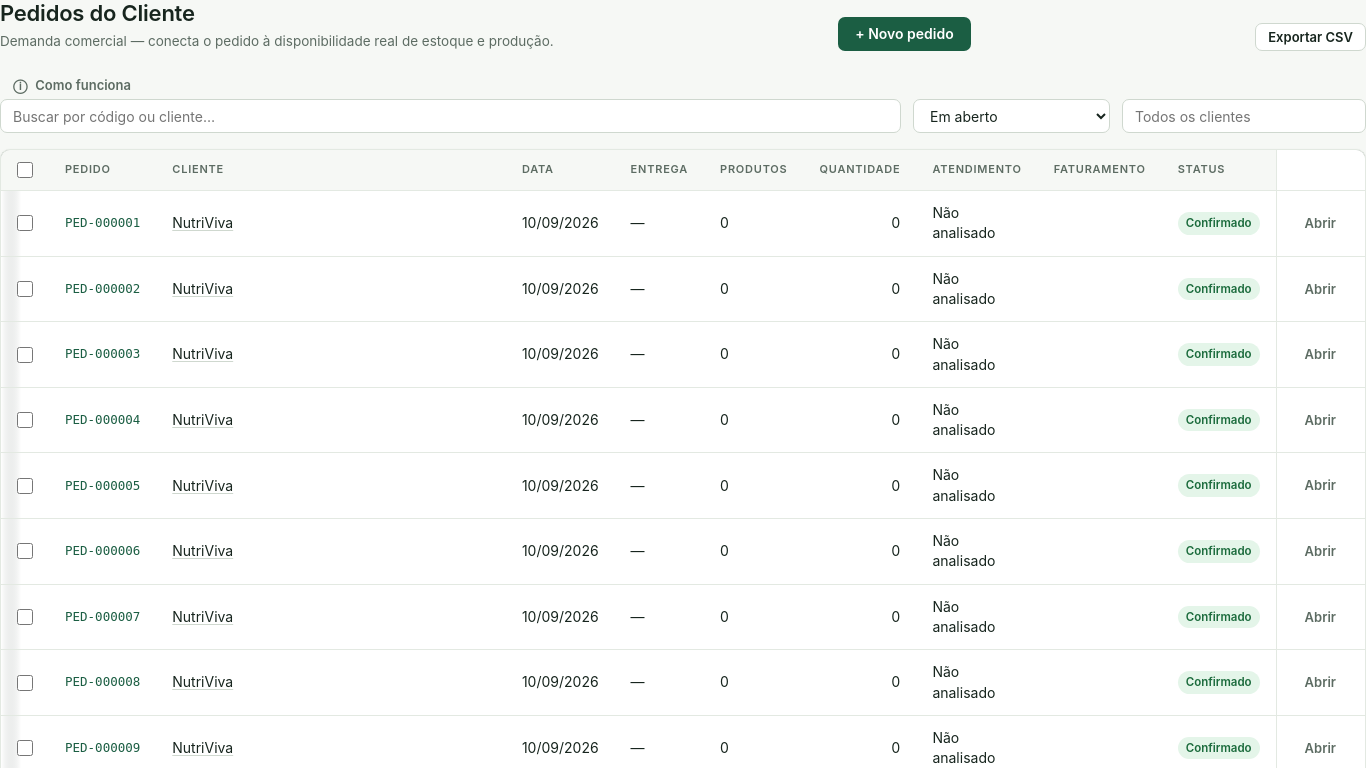
Test case: ações documentais na barra da seleção › dois CSVs, dois nomes: o do cabeçalho é a lista filtrada, o da barra é a seleção
Click the checkbox named "Selecionar pedido PED-000002".
click(25, 289)  # box [17,281,33,297]
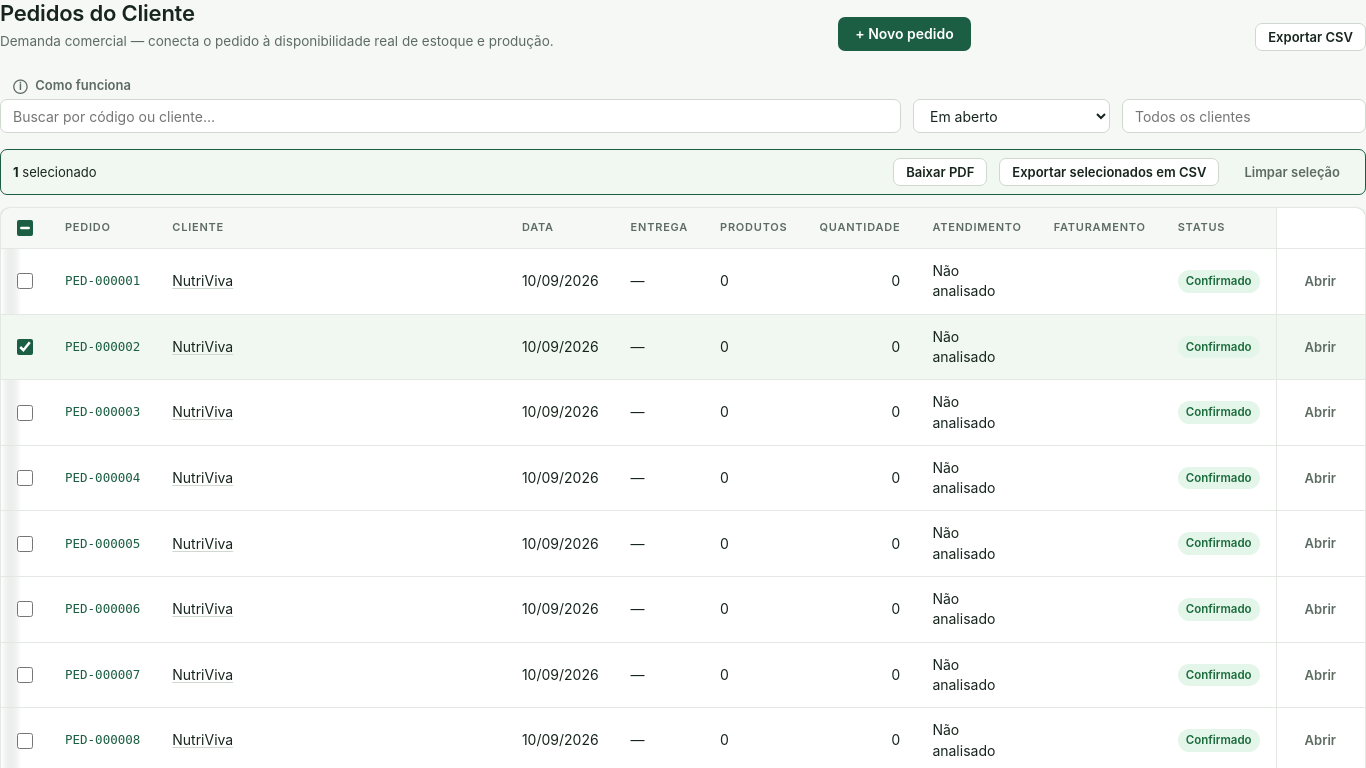
Click the button "Limpar seleção".
click(1292, 172)  # box [1231,158,1353,186]
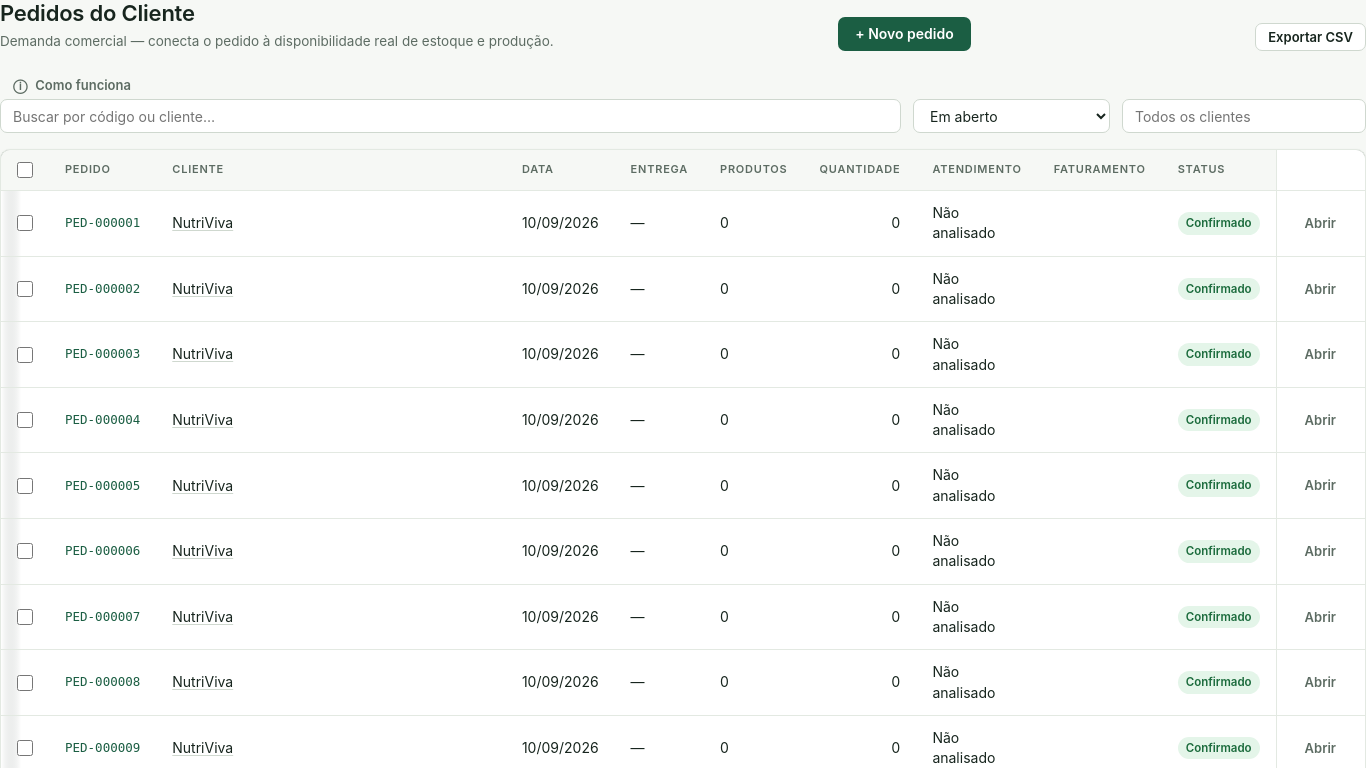
Click the checkbox named "Selecionar todos os registros desta página".
click(25, 170)  # box [17,162,33,178]
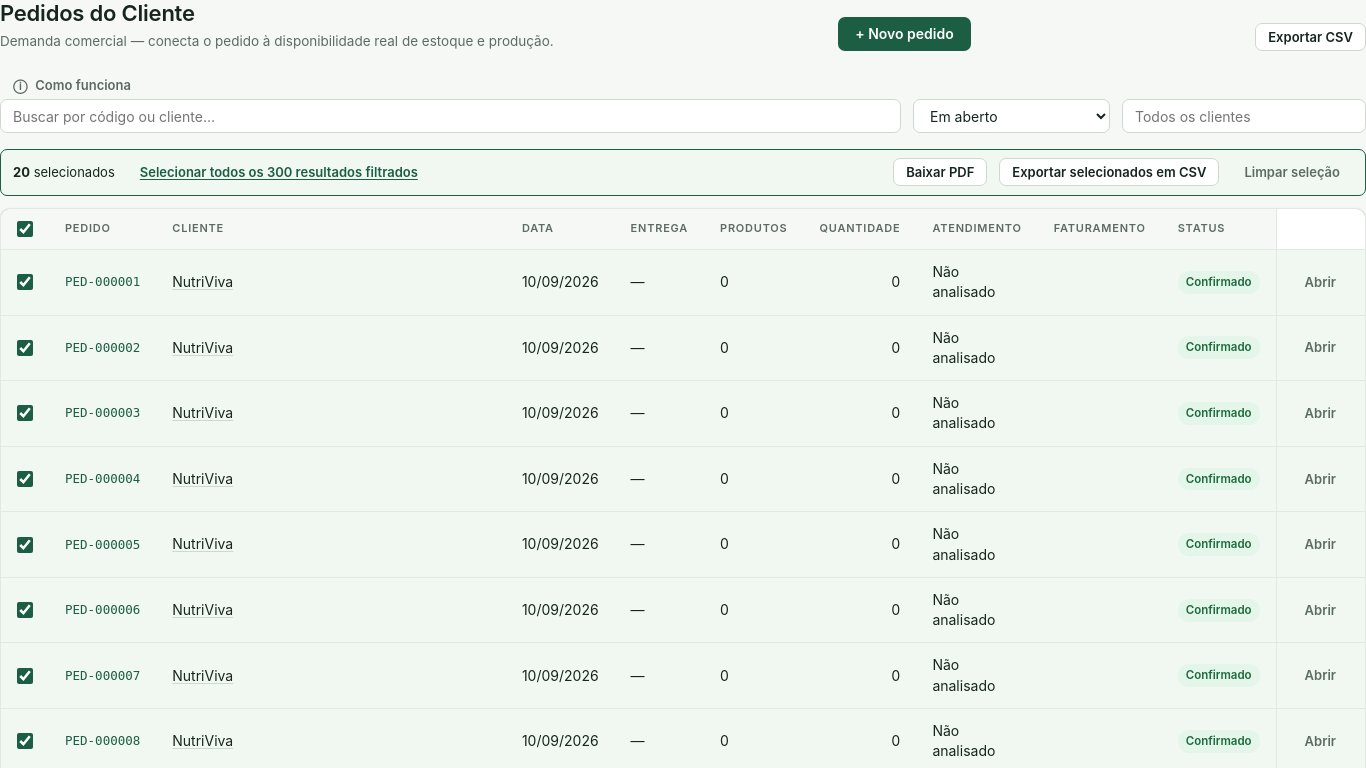
Click the button "Selecionar todos os 300 resultados filtrados".
click(279, 172)  # box [127,158,431,187]
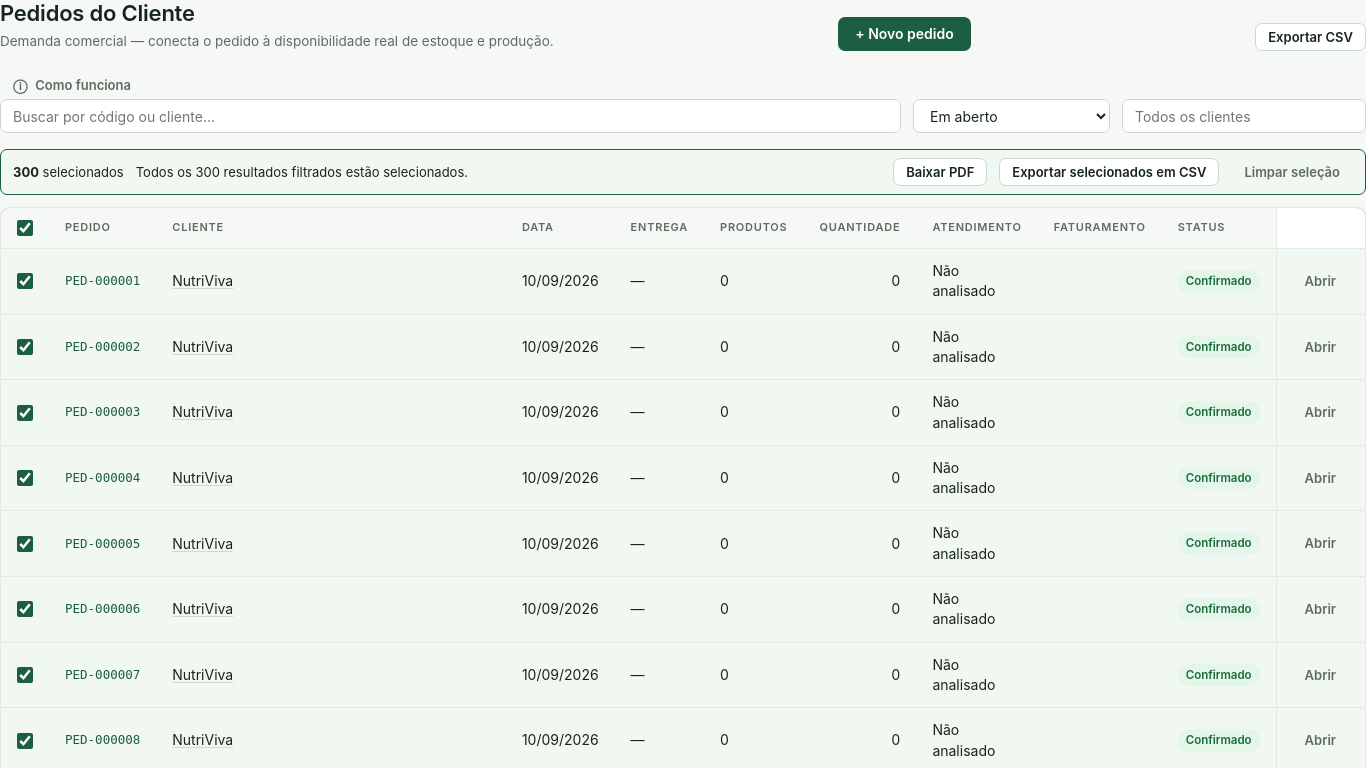
Expected: the element with class "bulk-bar__count" reads "300 selecionados", [13,163,124,181]
